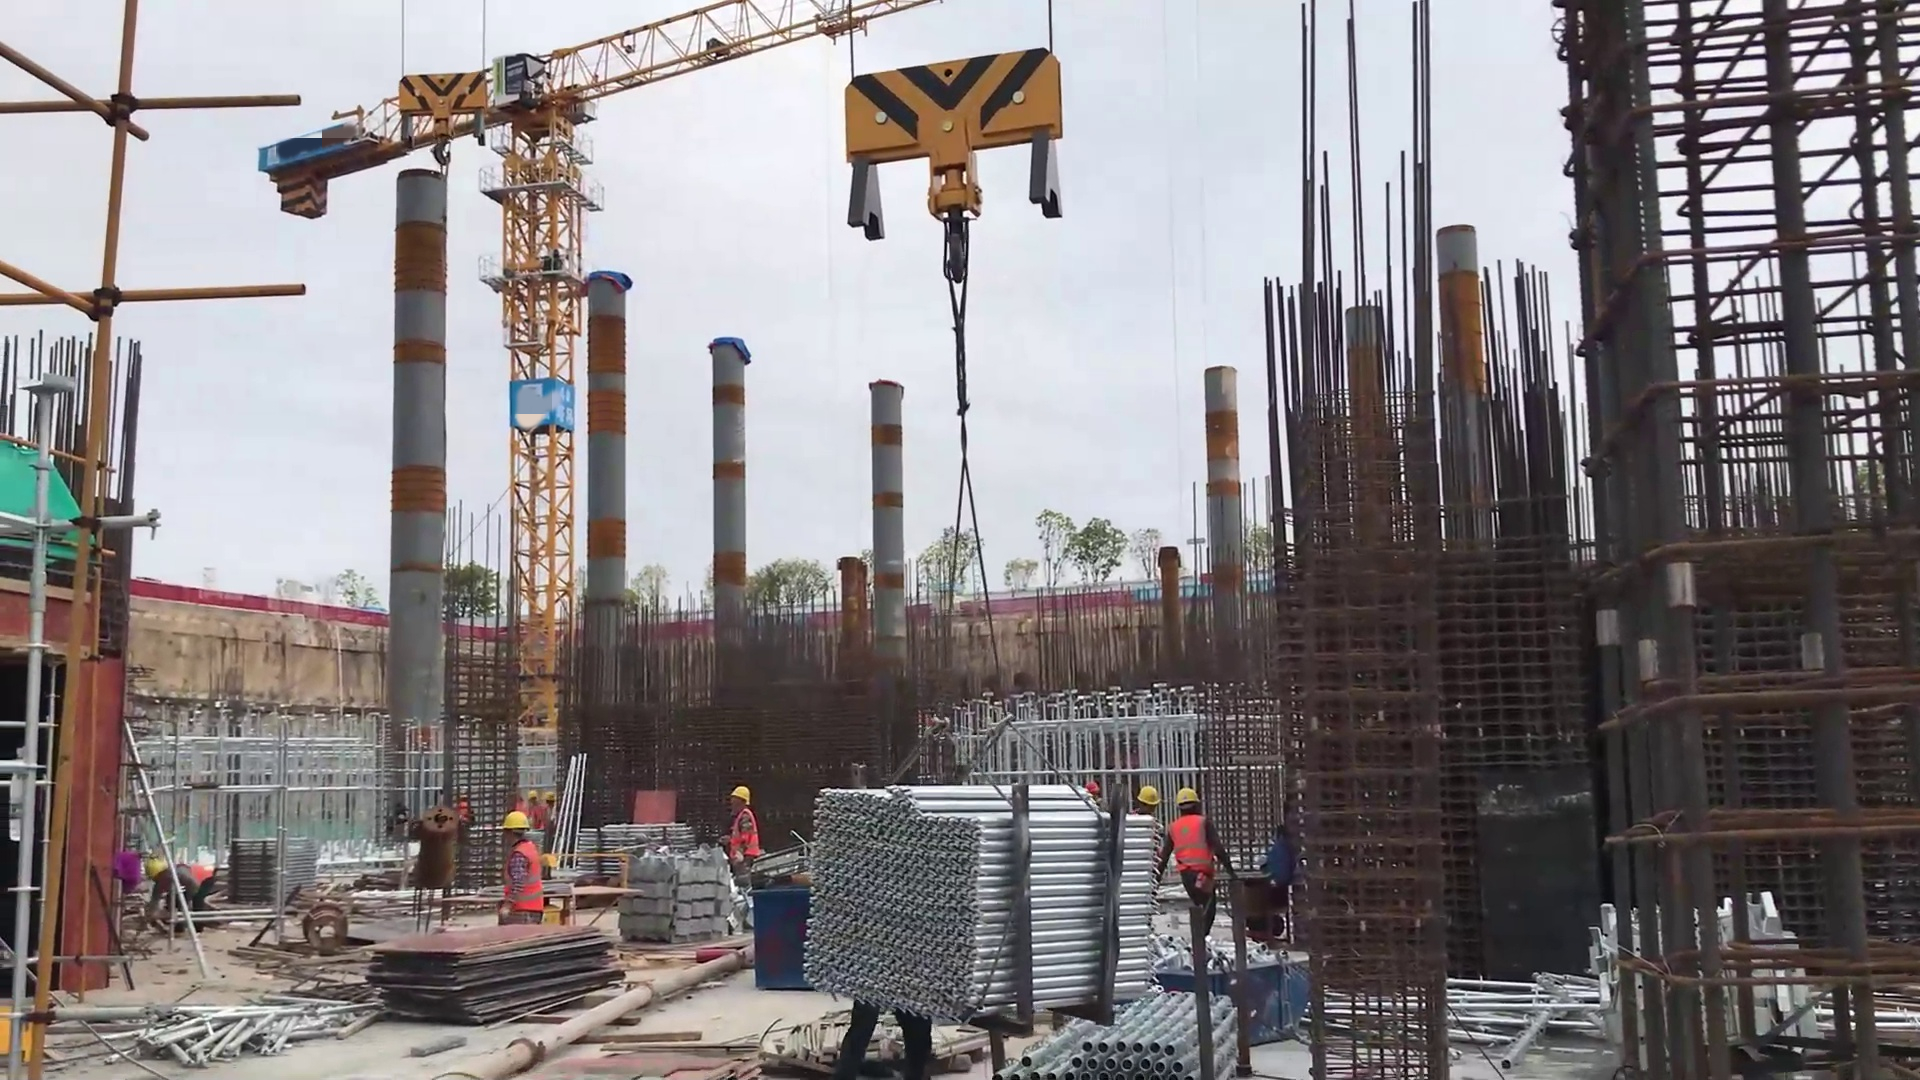board: (356, 915, 655, 1037)
helmet: (1144, 776, 1221, 808), (713, 781, 754, 807), (496, 810, 531, 837)
hook: (831, 31, 1088, 296), (379, 60, 509, 169)
hopper: (1124, 924, 1315, 1043)
person: (1158, 787, 1242, 927), (492, 812, 552, 916), (724, 787, 765, 873)
scaffold: (798, 741, 1155, 1041)
vest: (496, 834, 558, 929), (1163, 808, 1208, 872), (720, 810, 762, 862)
